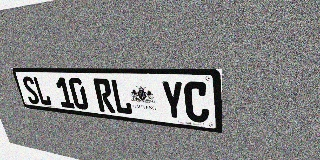0: (67, 78, 89, 110)
1: (54, 77, 75, 109)
C: (183, 81, 209, 123)
L: (110, 79, 133, 115), (32, 76, 52, 106)
R: (93, 78, 116, 113)
S: (21, 76, 41, 105)
Y: (160, 80, 185, 121)
